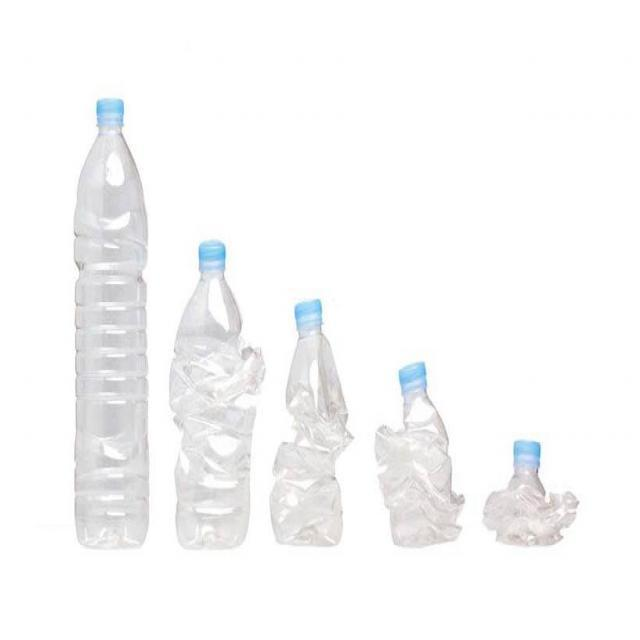Botella de plastico: (74, 99, 149, 548), (170, 241, 264, 549), (270, 300, 352, 545), (376, 362, 464, 546), (484, 440, 579, 546)
